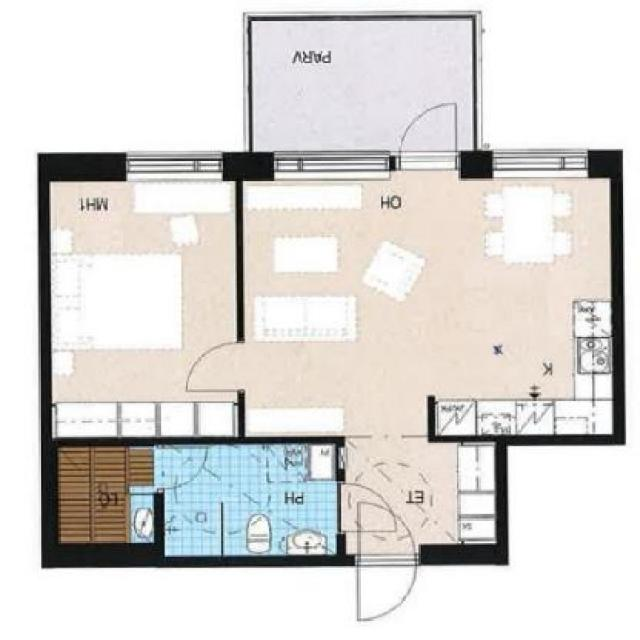door: (352, 497, 422, 623), (183, 337, 252, 395), (403, 103, 459, 168), (334, 480, 400, 535)
window: (278, 146, 384, 179), (125, 152, 222, 178), (492, 151, 588, 174)
zone: (243, 180, 609, 432), (43, 180, 237, 431), (58, 440, 342, 554), (251, 17, 477, 149), (342, 442, 504, 548)
